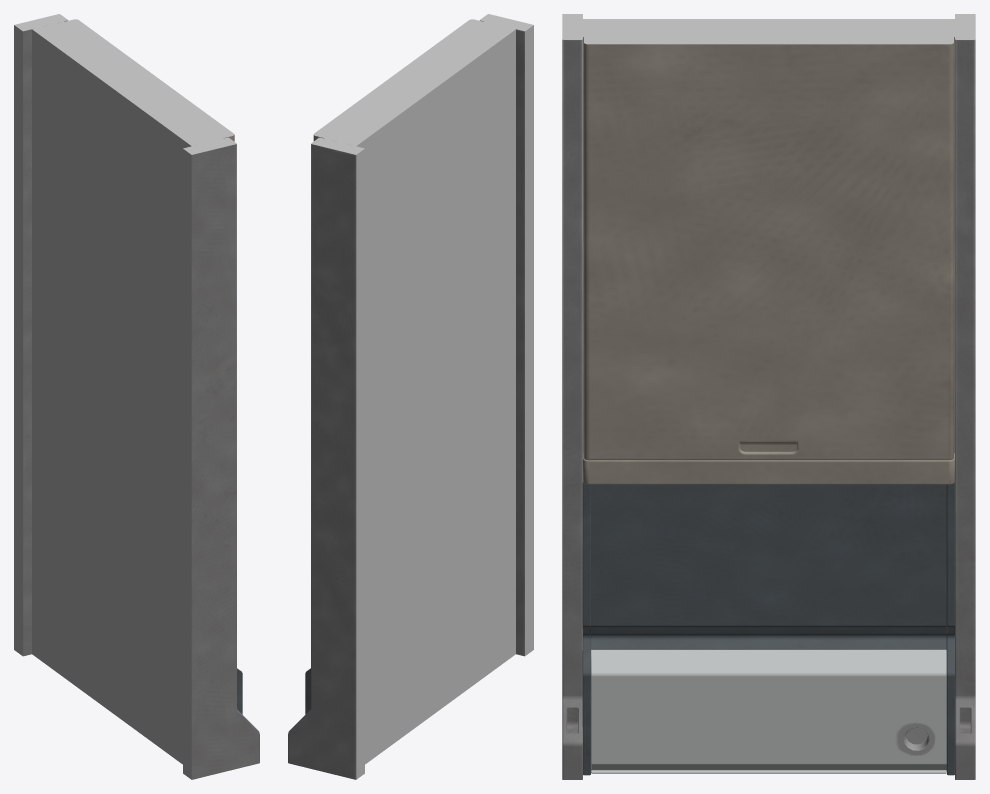
The model's file is SM_RoomStyle01_WallSmall.fbx.
The picture shows the model from 3 angles, left to right: view 1: azimuth 30°, elevation 25°; view 2: azimuth 150°, elevation 25°; view 3: azimuth 270°, elevation 25°; orthographic projection. The views are drawn at different scales.
Visible parts, largest first — view 1: SM_RoomStyle01_WallSmall_LOD0; view 2: SM_RoomStyle01_WallSmall_LOD0; view 3: SM_RoomStyle01_WallSmall_LOD0.
Boxes of the visible parts, x1,y1,x2,y2 form: SM_RoomStyle01_WallSmall_LOD0: (14,14,259,779); SM_RoomStyle01_WallSmall_LOD0: (288,14,533,779); SM_RoomStyle01_WallSmall_LOD0: (562,14,975,779).
Bounding box in the file's own units: 33.4 × 150 × 291.
2 materials, 1 textured.
